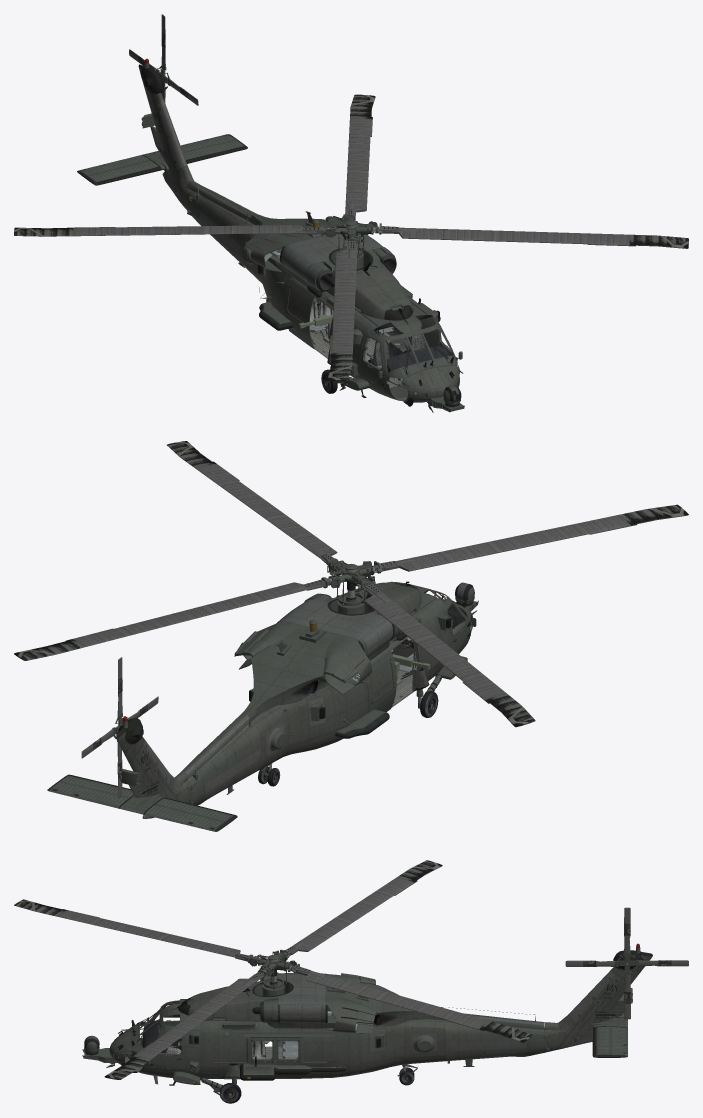
Rendered from mh-60r_seahawk_crewed.glb.
3 renders of one model, top to bottom at view 1: azimuth 30°, elevation 25°; view 2: azimuth 150°, elevation 25°; view 3: azimuth 270°, elevation 25°, orthographic. The views are drawn at different scales.
Visible parts, largest first — view 1: Main_Rotor, Object_9, Object_20, Object_12, Object_13, Object_18, Object_19, Object_17, Object_2, Object_5, Object_8, Object_10 (+4 smaller); view 2: Main_Rotor, Object_9, Object_20, Object_12, Object_13, Object_18, Object_8, Object_17, Object_11, Object_2, Tail_Rotor, Object_19 (+3 smaller); view 3: Main_Rotor, Object_9, Object_21, Object_19, Object_13, Object_20, Object_12, Object_18, Object_10, Tail_Rotor, Object_17, Object_16 (+7 smaller).
Part boxes in pixels (left/top/right/bottom): Main_Rotor: left=14, top=94, right=688, bottom=380; Object_9: left=187, top=185, right=459, bottom=391; Object_20: left=188, top=192, right=425, bottom=388; Object_12: left=77, top=69, right=463, bottom=412; Object_13: left=138, top=62, right=459, bottom=404; Object_18: left=154, top=65, right=463, bottom=406; Object_19: left=187, top=195, right=459, bottom=403; Object_17: left=155, top=66, right=462, bottom=386; Object_2: left=309, top=298, right=459, bottom=400; Object_5: left=311, top=301, right=449, bottom=372; Object_8: left=192, top=185, right=457, bottom=404; Object_10: left=199, top=185, right=455, bottom=397; Main_Rotor: left=14, top=441, right=688, bottom=727; Object_9: left=180, top=581, right=470, bottom=803; Object_20: left=188, top=561, right=476, bottom=805; Object_12: left=47, top=589, right=477, bottom=831; Object_13: left=116, top=592, right=468, bottom=818; Object_18: left=112, top=585, right=472, bottom=770; Object_8: left=184, top=582, right=469, bottom=803; Object_17: left=113, top=577, right=476, bottom=741; Object_11: left=119, top=578, right=478, bottom=794; Object_2: left=387, top=581, right=472, bottom=706; Tail_Rotor: left=81, top=657, right=158, bottom=797; Object_19: left=191, top=585, right=472, bottom=804; Main_Rotor: left=14, top=860, right=532, bottom=1079; Object_9: left=127, top=973, right=547, bottom=1084; Object_21: left=110, top=947, right=445, bottom=1079; Object_19: left=109, top=1008, right=547, bottom=1084; Object_13: left=85, top=947, right=652, bottom=1095; Object_20: left=121, top=958, right=548, bottom=1060; Object_12: left=82, top=951, right=649, bottom=1084; Object_18: left=110, top=953, right=638, bottom=1073; Object_10: left=109, top=972, right=547, bottom=1080; Tail_Rotor: left=565, top=907, right=688, bottom=1019; Object_17: left=147, top=953, right=637, bottom=1069; Object_16: left=149, top=954, right=304, bottom=1064.
Size of the model in its own units: 1690 by 647 by 2196.
Materials: 5 (3 with a texture image).
